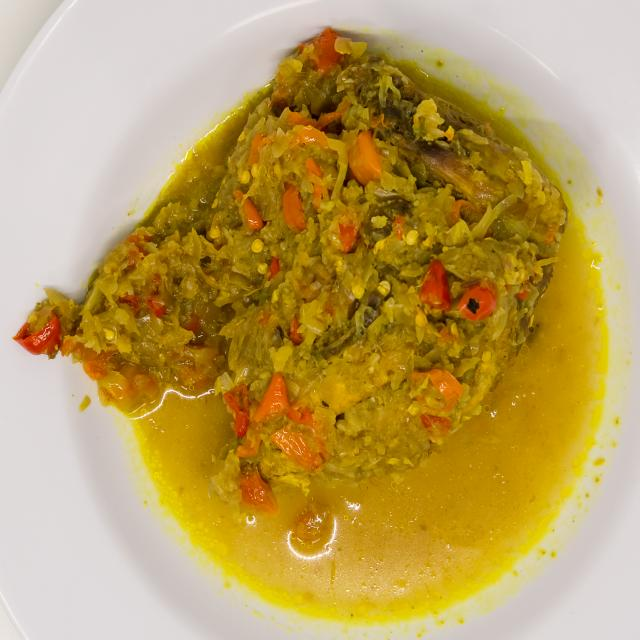Ayam-Betutu: (66, 16, 576, 518)
